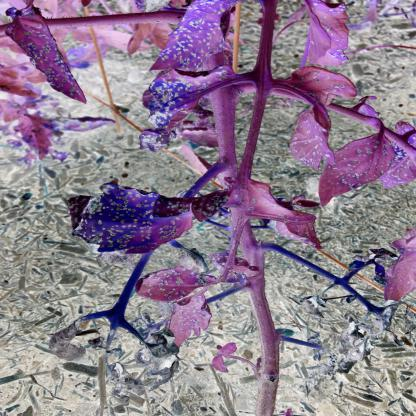Tomato Septoria leaf spot: (42, 184, 248, 258), (136, 68, 242, 154), (146, 3, 256, 73), (5, 12, 88, 104), (310, 132, 402, 210), (240, 176, 320, 252), (162, 293, 232, 350), (120, 264, 216, 304), (284, 102, 340, 170)
